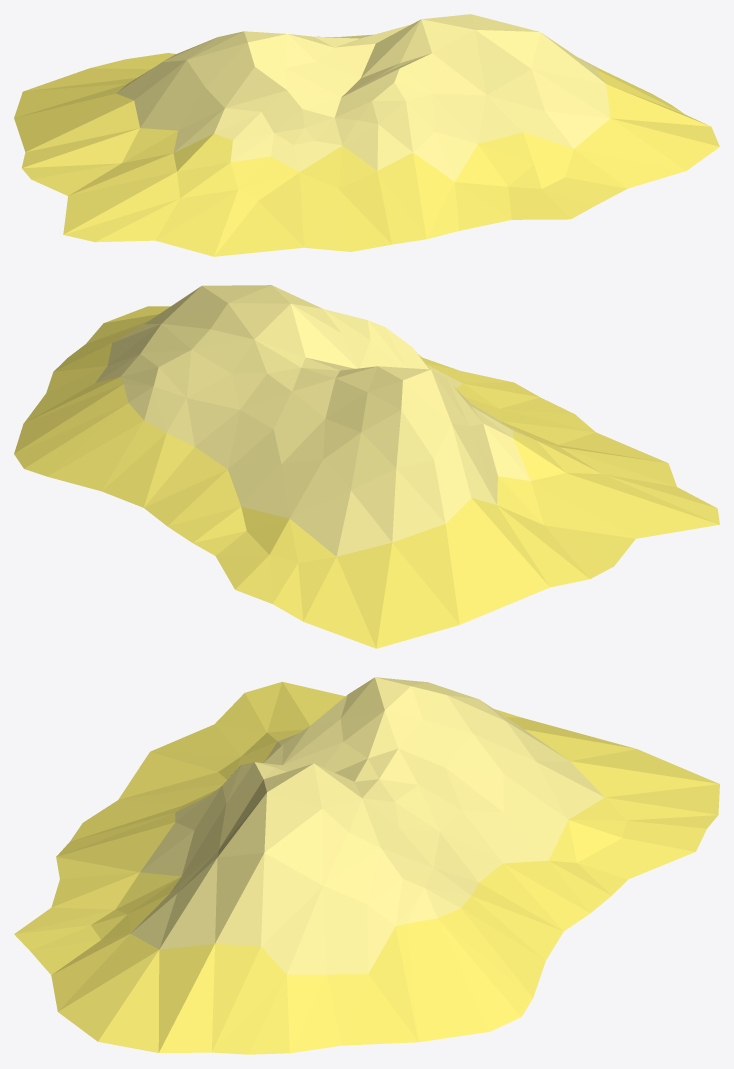
Rendered from Hill_022.glb.
3 views of the same model, one above another, from view 1: azimuth 30°, elevation 25°; view 2: azimuth 150°, elevation 25°; view 3: azimuth 270°, elevation 25° (orthographic). The views are drawn at different scales.
Parts seen in each view (by area): view 1: Hill_022; view 2: Hill_022; view 3: Hill_022.
Boxes of the visible parts, x1,y1,x2,y2 form: Hill_022: (14, 14, 719, 256); Hill_022: (14, 285, 719, 648); Hill_022: (14, 677, 719, 1054).
Size of the model in its own units: 4.36 by 0.9201 by 3.53.
Materials: 1 (1 with a texture image).
